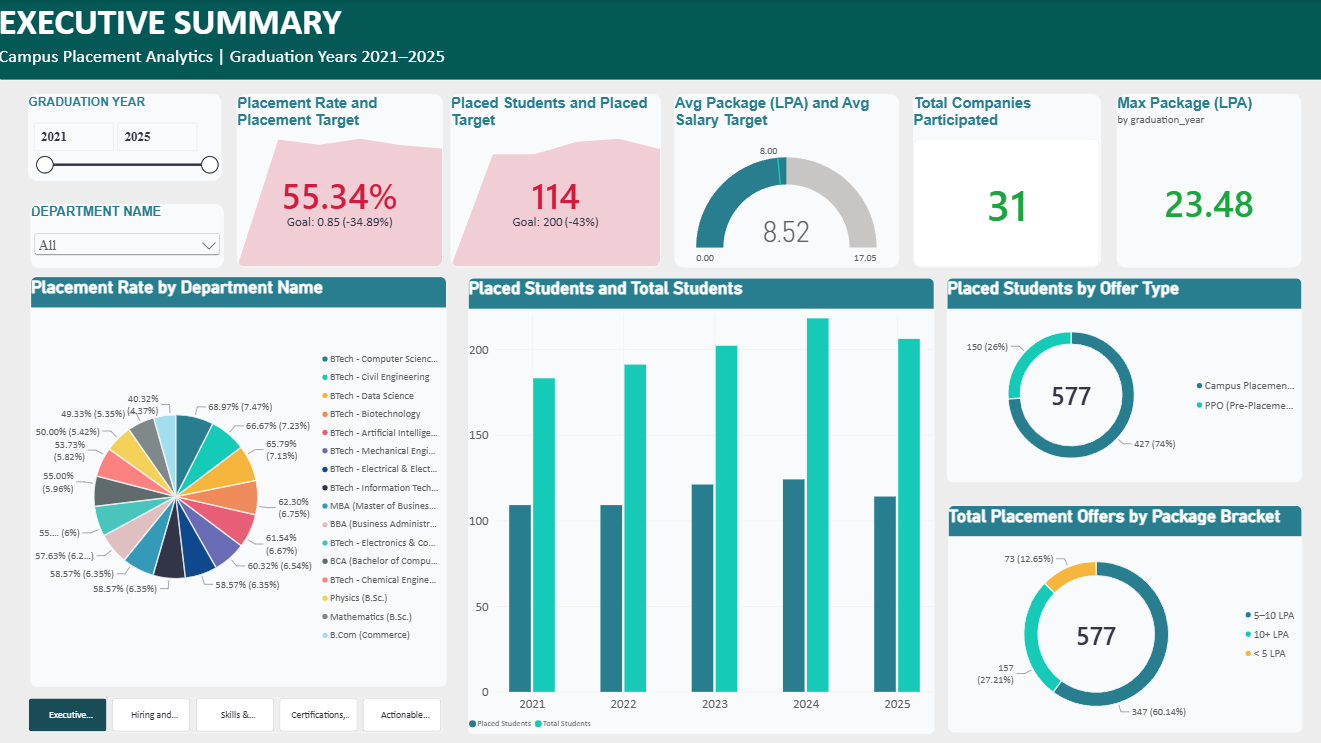

What the dashboard file says about the page in this screenshot:
{"tool":"powerbi","page":{"name":"Executive Summary","canvas":[1920,1080],"ordinal":0},"visuals":[{"type":"kpi","title":"Placement Rate and Placement Target","fields":{"Goal":["_Key Measures.Placement Target"],"Indicator":["_Key Measures.Placement Rate"],"TrendLine":["students.graduation_year"]},"box":[345.8,137.9,298.5,251.1],"z":0},{"type":"kpi","title":"Placed Students and Placed Target","fields":{"Goal":["_Key Measures.Placed Target"],"Indicator":["_Key Measures.Placed Students"],"TrendLine":["students.graduation_year"]},"box":[654.5,137.9,304.6,251.1],"z":1000},{"type":"kpi","fields":{"Indicator":["_Key Measures.Max Package (LPA)"],"TrendLine":["students.graduation_year"]},"box":[1619.9,137.9,267.6,251.1],"z":2000},{"type":"pieChart","title":"Placement Rate by Department Name","fields":{"Category":["departments.department_name"],"Y":["_Key Measures.Placement Rate"]},"box":[47.9,402.1,602.1,593.8],"z":3000},{"type":"donutChart","title":"Placed Students by Offer Type","fields":{"Category":["placements.offer_type"],"Y":["_Key Measures.Placed Students"]},"box":[1372.9,404.2,514.6,295.8],"z":4000},{"type":"clusteredColumnChart","title":"Placed Students and Total Students","fields":{"Category":["students.graduation_year"],"Y":["_Key Measures.Placed Students","_Key Measures.Total Students"]},"box":[681.3,403.4,675.1,660.7],"z":5000},{"type":"slicer","title":"GRADUATION YEAR","fields":{"Values":["students (2).graduation_year"]},"box":[43.2,137.9,279.9,125.6],"z":6000},{"type":"slicer","title":"DEPARTMENT NAME","fields":{"Values":["departments.department_name"]},"box":[47.3,296.4,279.9,92.6],"z":7000},{"type":"pageNavigator","box":[43.8,1012.5,600,50],"z":8000},{"type":"textbox","box":[0,0,1920,117.8],"z":9000},{"type":"gauge","fields":{"TargetValue":["_Key Measures.Avg Salary Target"],"Y":["_Key Measures.Avg Package (LPA)"]},"box":[979.8,137.9,325.2,251.1],"z":10000},{"type":"cardVisual","title":"Total Companies Participated","fields":{"Data":["_Key Measures.Company Count"]},"box":[1325.6,137.9,271.7,251.1],"z":11000},{"type":"donutChart","fields":{"Category":["placements.Package Bracket"],"Y":["_Key Measures.Total Placement Offers"]},"box":[1375,733.3,512.5,329.2],"z":12000}]}

Visuals, with their boxes in screenshot pixels (x1, y1, x2, y2), scaled from the page's 1920x1080 canvas onto the 1321x743 screenshot:
"Placement Rate and Placement Target" kpi: rect(238, 95, 443, 268)
"Placed Students and Placed Target" kpi: rect(450, 95, 660, 268)
kpi - _Key Measures.Max Package (LPA) x students.graduation_year: rect(1115, 95, 1299, 268)
"Placement Rate by Department Name" pieChart: rect(33, 277, 447, 685)
"Placed Students by Offer Type" donutChart: rect(945, 278, 1299, 482)
"Placed Students and Total Students" clusteredColumnChart: rect(469, 278, 933, 732)
"GRADUATION YEAR" slicer: rect(30, 95, 222, 181)
"DEPARTMENT NAME" slicer: rect(33, 204, 225, 268)
pageNavigator: rect(30, 697, 443, 731)
textbox: rect(0, 0, 1320, 81)
gauge - _Key Measures.Avg Salary Target x _Key Measures.Avg Package (LPA): rect(674, 95, 898, 268)
"Total Companies Participated" cardVisual: rect(912, 95, 1099, 268)
donutChart - placements.Package Bracket x _Key Measures.Total Placement Offers: rect(946, 504, 1299, 731)
